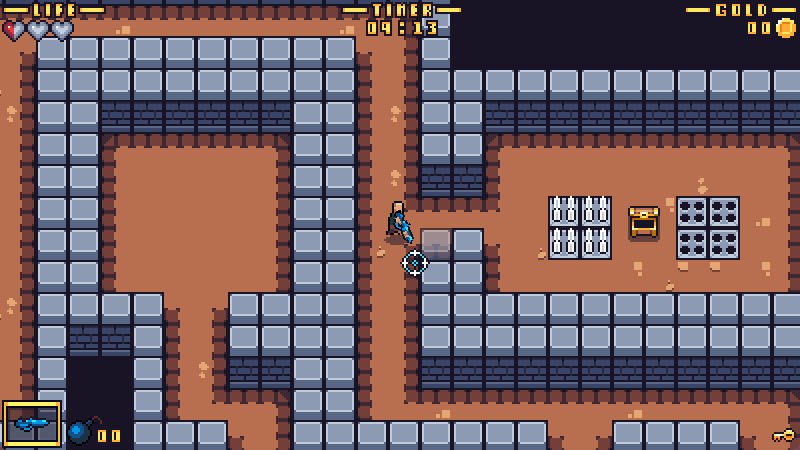aim: (403, 248, 429, 277)
bomb_counter_0: (66, 417, 124, 449)
gold_counter: (686, 1, 799, 38)
health-5: (1, 17, 77, 42)
key: (771, 426, 797, 445)
player: (388, 200, 415, 244)
timer: (339, 1, 461, 37)
trap_off: (676, 197, 739, 258)
trap_on: (548, 195, 612, 259)
treasury_open: (628, 206, 662, 240)
